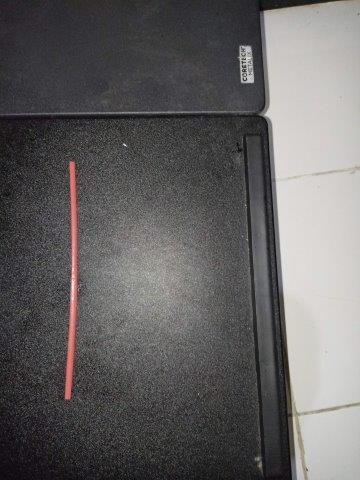sedotan: (63, 161, 77, 399)
